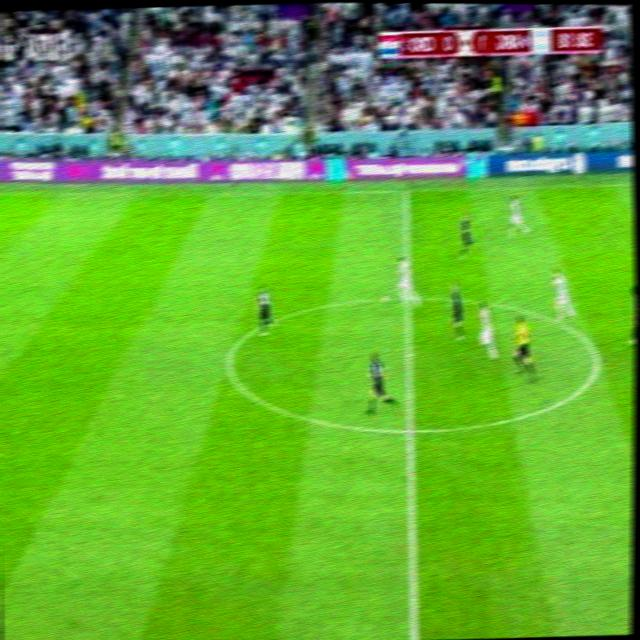halfcircle_bottom: (398, 414, 423, 444)
midline_top_intersection: (396, 180, 415, 201)
